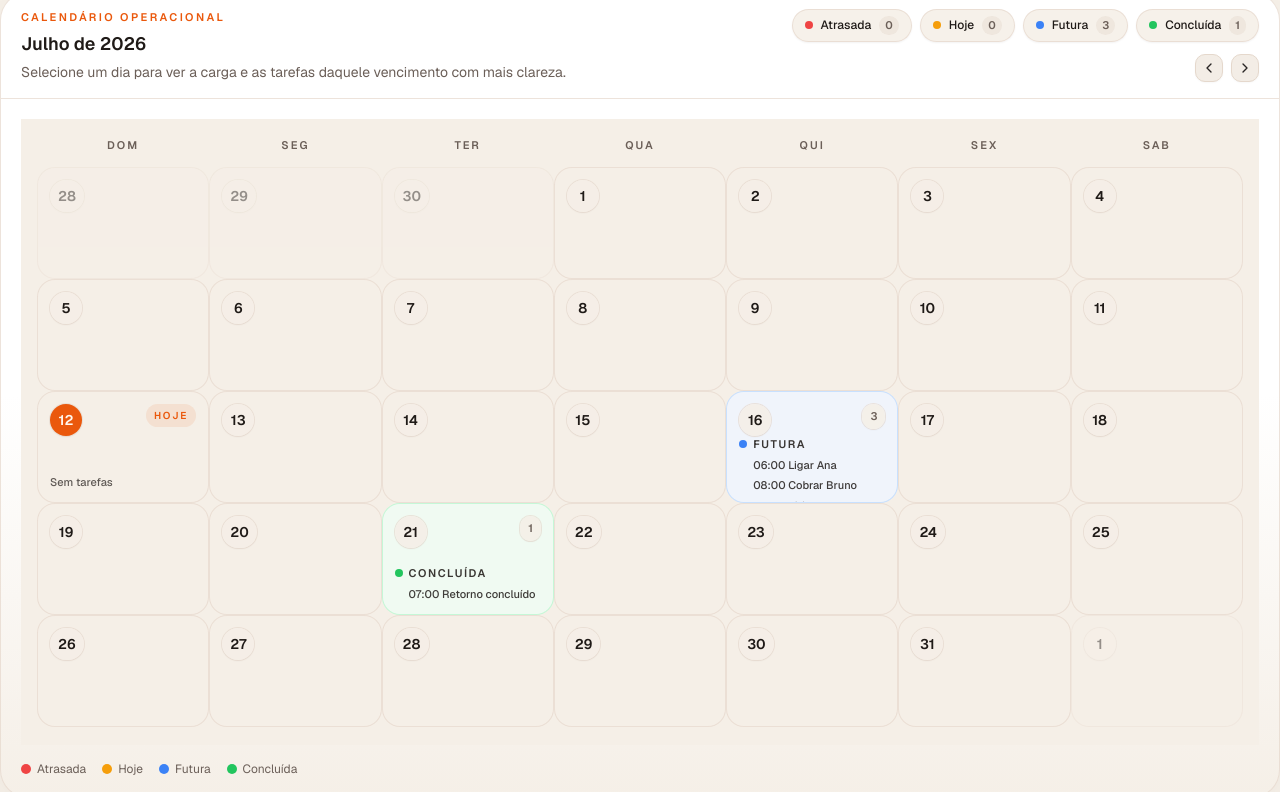
Test: FollowupCalendario › seleciona o dia ao clicar na célula do mês
The width and height of the screenshot is (1280, 792).
Click the button with test id "followup-month-day-2026-07-15". click: (812, 447)
box: x1=726 y1=391 x2=898 y2=503
(page scrolled)
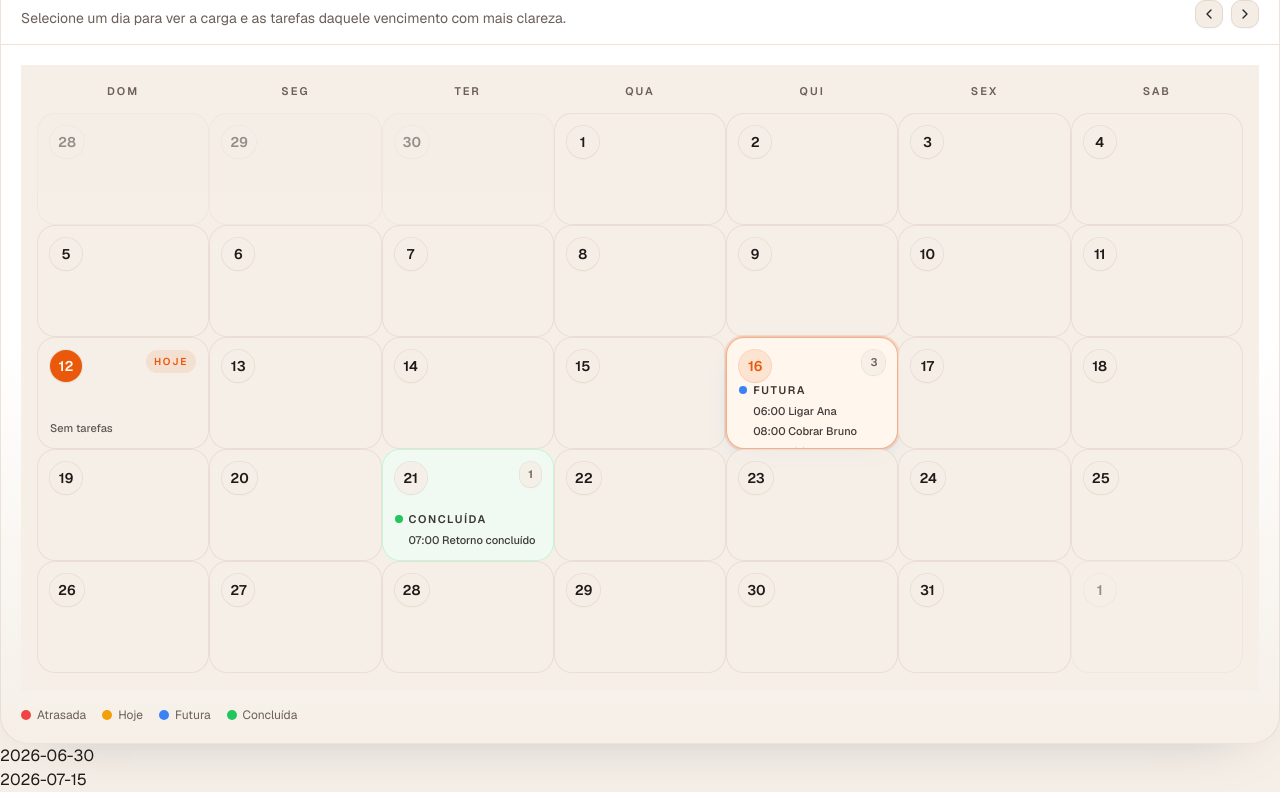
Expected: the text with test id "selected-day" reads "2026-07-15", x1=0 y1=769 x2=87 y2=790
